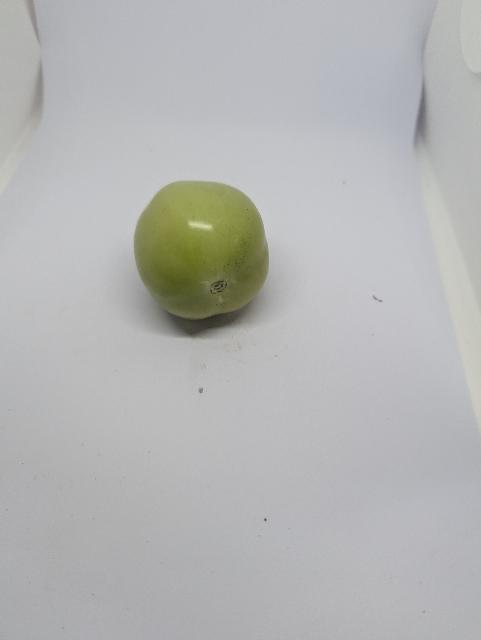green: (124, 173, 278, 339)
